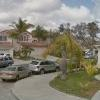Palm tree: (10, 13, 40, 42)
